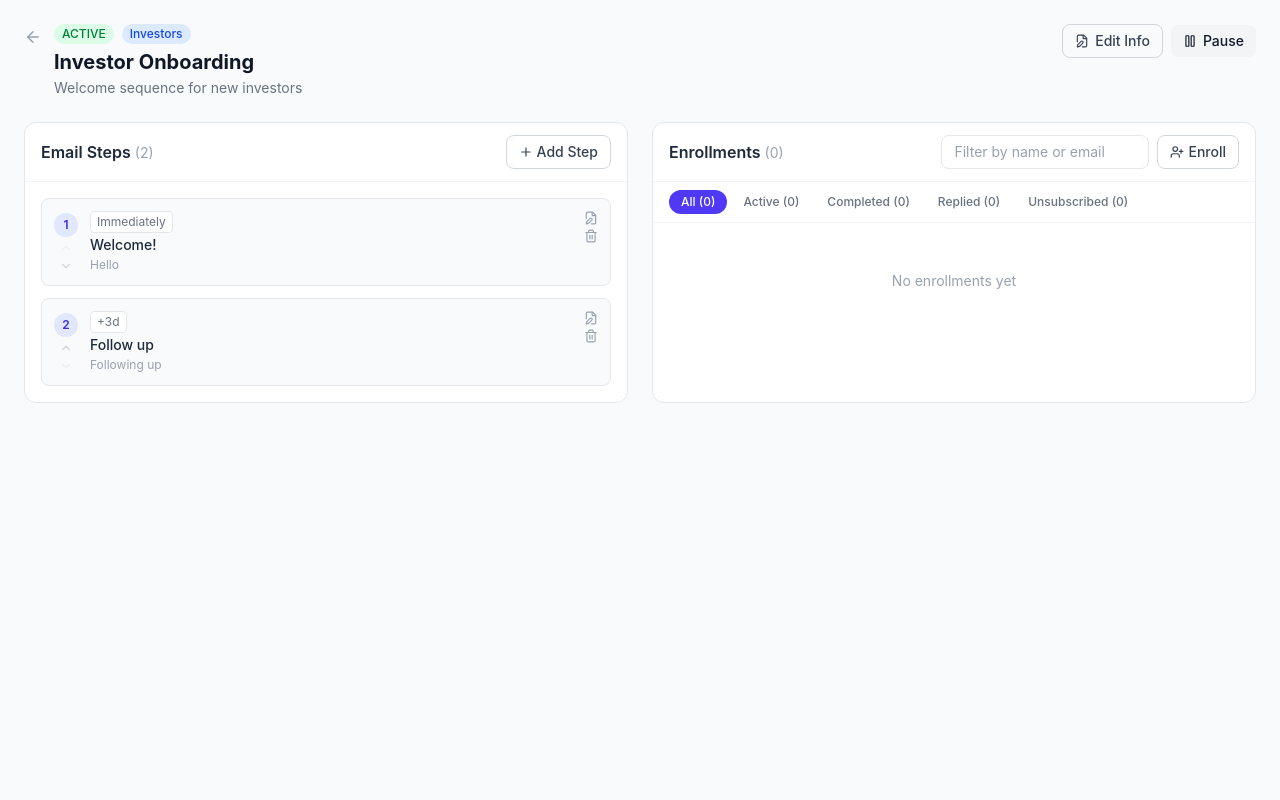
Scenario: SequenceDetailPage › submits Edit Info form and closes modal
Click the button "Edit Info" at (1113, 41), box [1062, 24, 1163, 58]
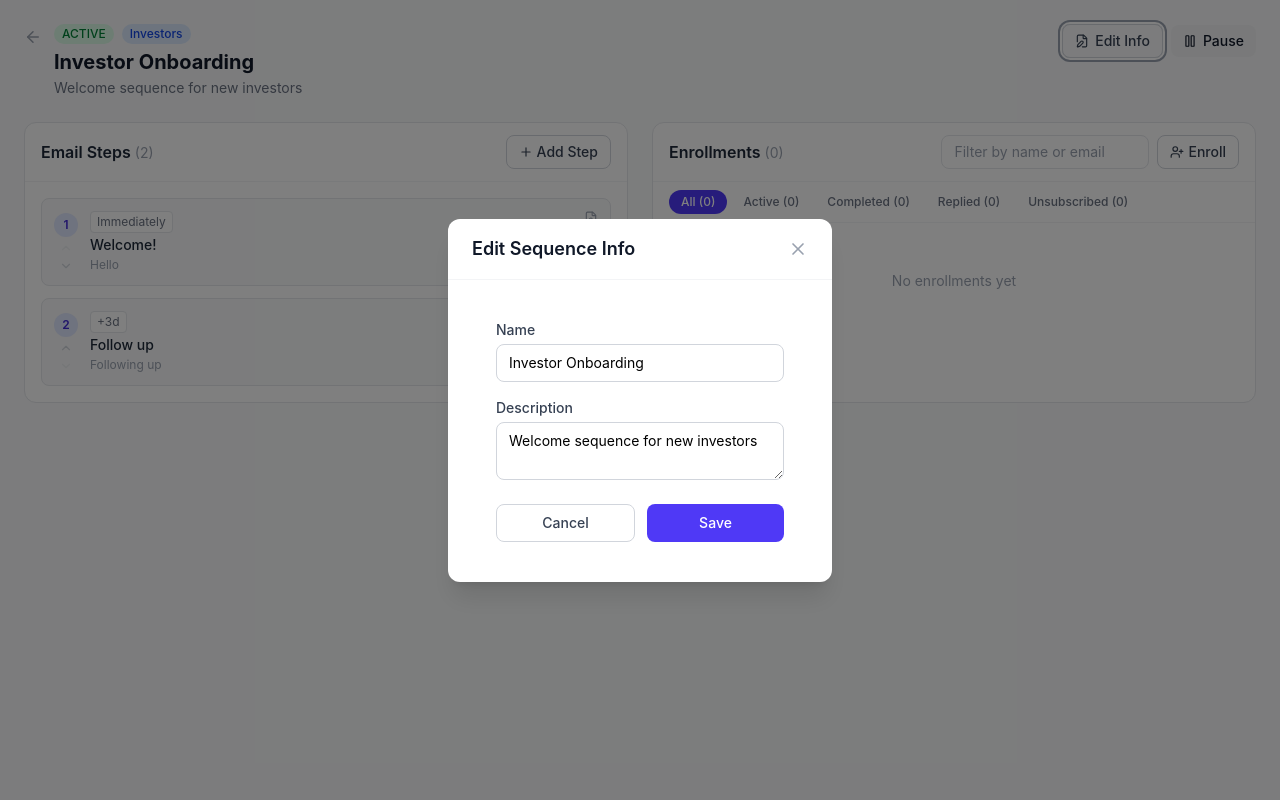
Expected: the heading "Edit Sequence Info" is shown, [472, 234, 635, 262]
Replace the text in the field labelled "Name" with "Updated Name" at (640, 362), box [496, 344, 784, 382]
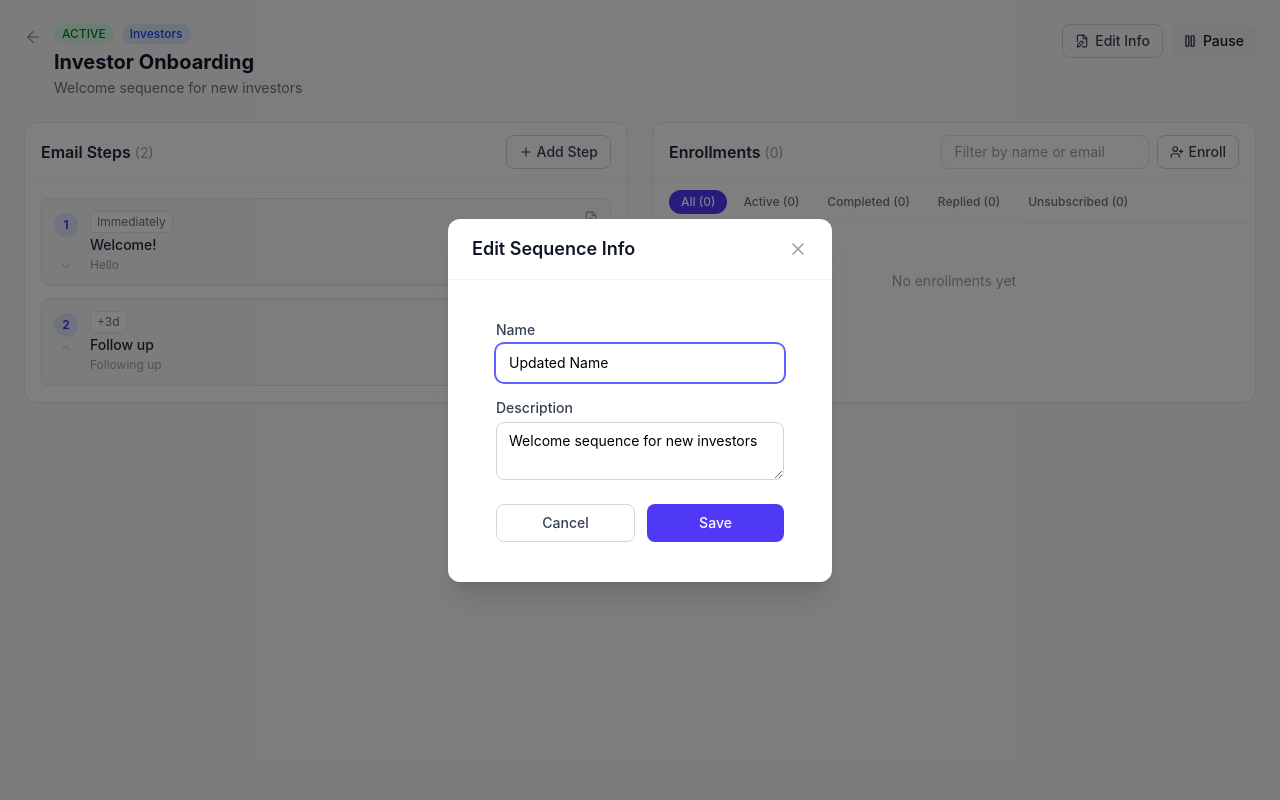
Click the button "Save" at (716, 522), box [647, 504, 784, 542]
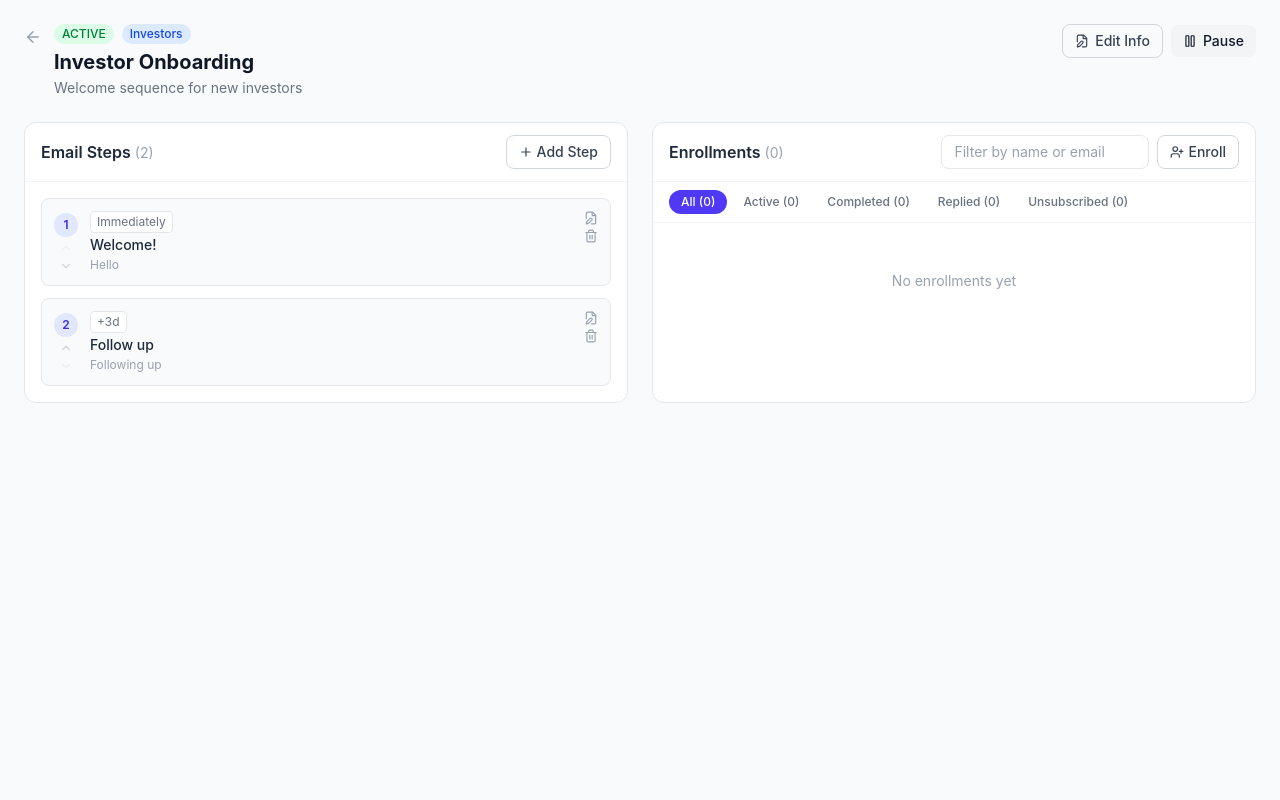
Expected: the heading "Edit Sequence Info" is gone
